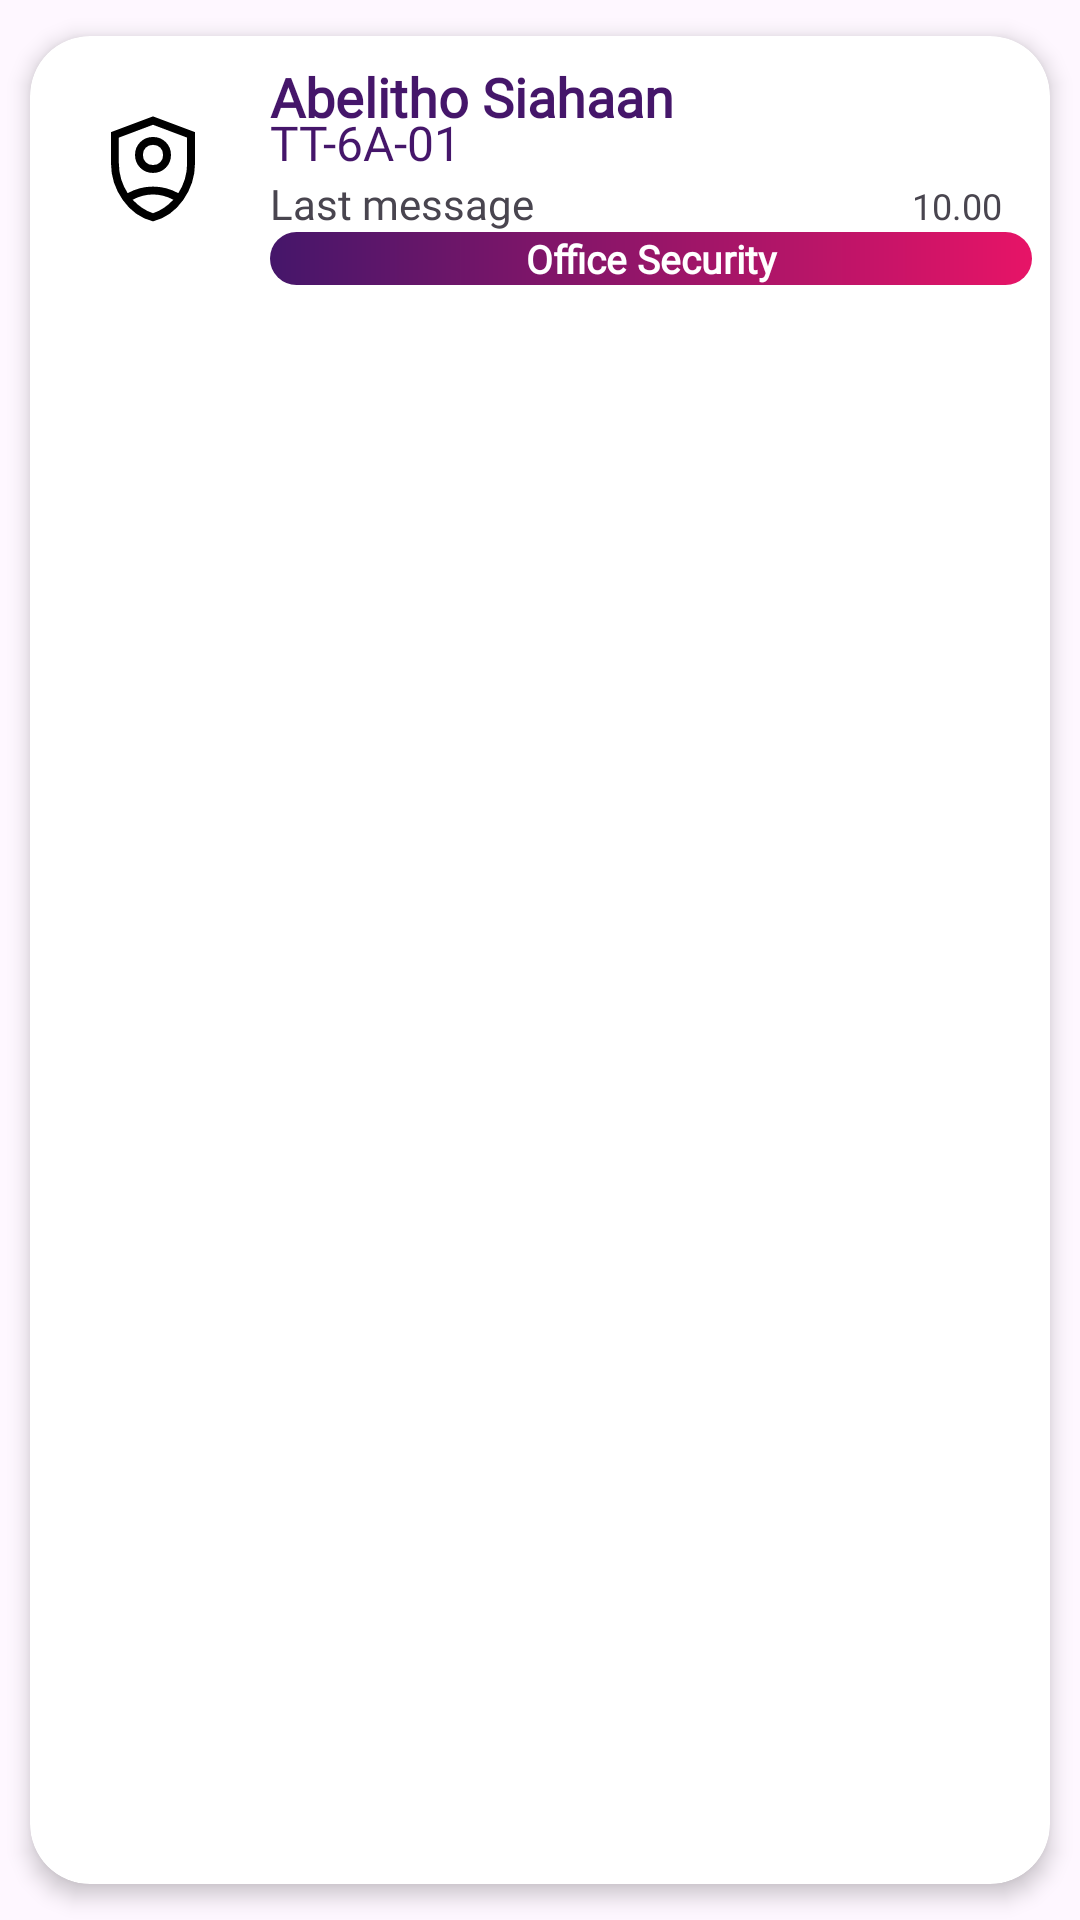

Where to tap for icons on this 1080px x 1920px app screen, as (x=x, y=y):
shield person: (x=153, y=169)
